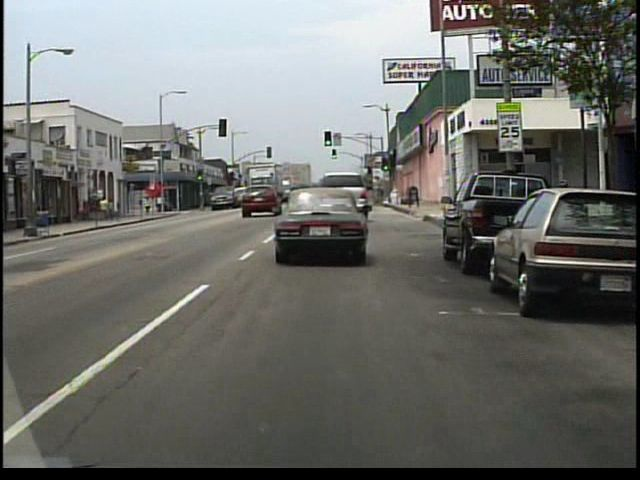person: (101, 196, 111, 222), (107, 198, 115, 221), (143, 196, 152, 216)
